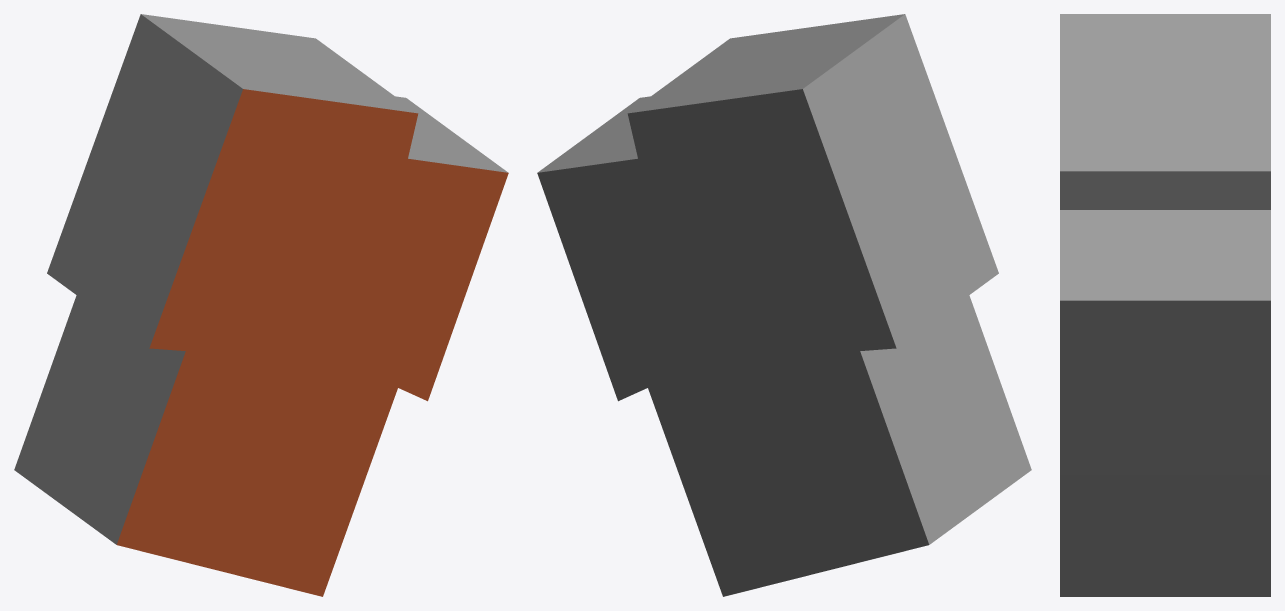
The model's file is construction_5997_assumed_A_Casa_h6m.obj.
3 views of the same model, side by side, from view 1: azimuth 30°, elevation 25°; view 2: azimuth 150°, elevation 25°; view 3: azimuth 270°, elevation 25° (orthographic). The views are drawn at different scales.
Visible parts, largest first — view 1: construction_5997_assumed_A_Casa; view 2: construction_5997_assumed_A_Casa; view 3: construction_5997_assumed_A_Casa.
Part boxes in pixels (x1=…): construction_5997_assumed_A_Casa: x1=14, y1=14, x2=508, y2=596; construction_5997_assumed_A_Casa: x1=537, y1=14, x2=1031, y2=596; construction_5997_assumed_A_Casa: x1=1060, y1=14, x2=1270, y2=596.
Size of the model in its own units: 13.26 by 17.04 by 6.
